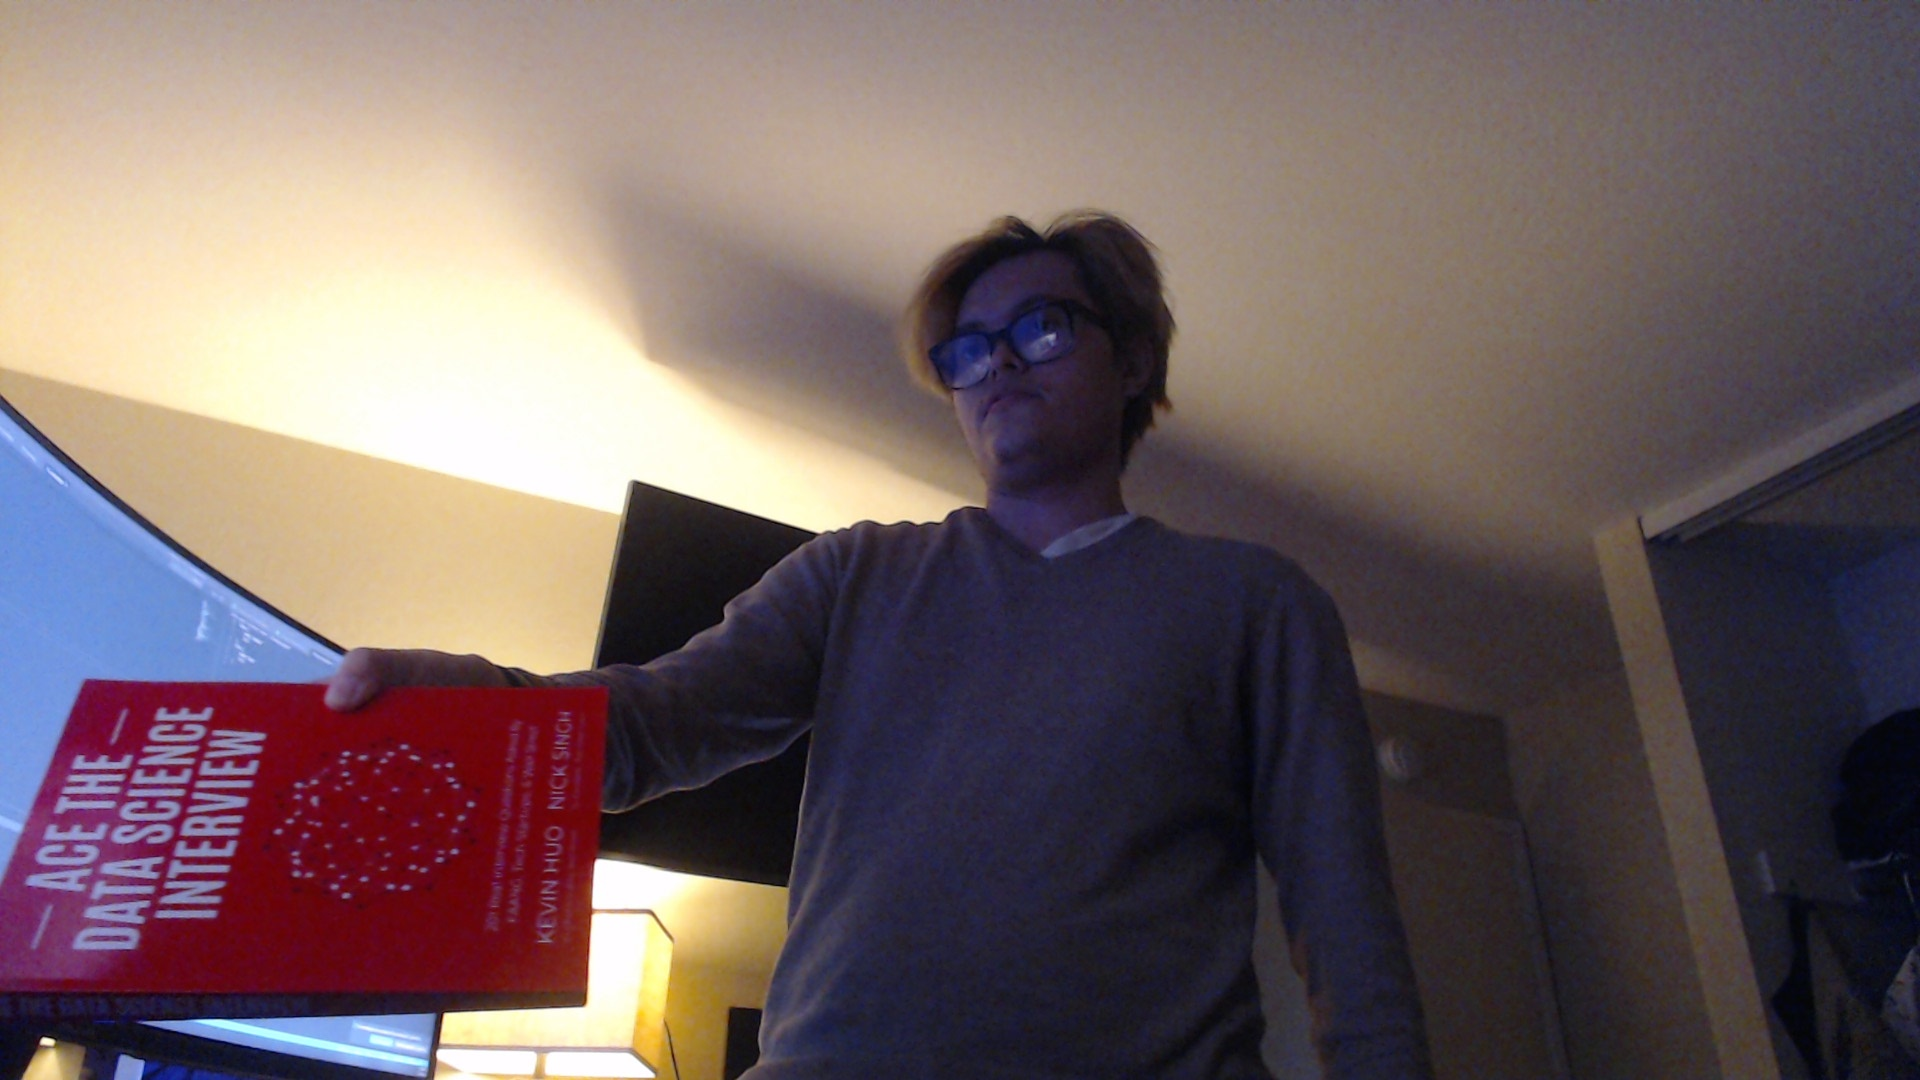book: (1, 680, 613, 1021)
